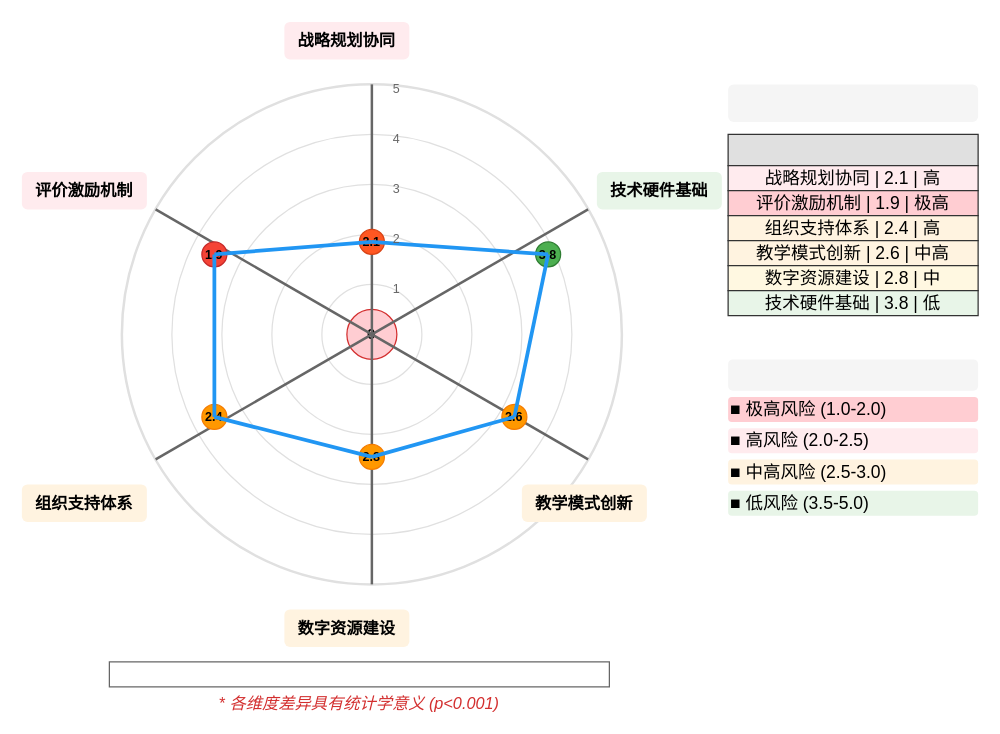
The diagram is 1000 pixels wide and 734 high, and some of its shapes have lost their labels. Each missing label, with the centre of its shape:
"各维度得分详情" belongs at (853,102).
"图例说明" belongs at (853,374).
"数据来源：问卷调查(N=468) + 深度访谈(N=25)" belongs at (358,674).
"维度 | 得分 | 问题严重程度" belongs at (852,149).
